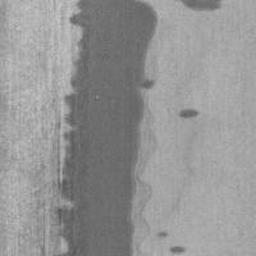Water spot: (50, 0, 170, 256), (173, 0, 225, 13), (178, 108, 200, 119), (169, 244, 187, 255)
